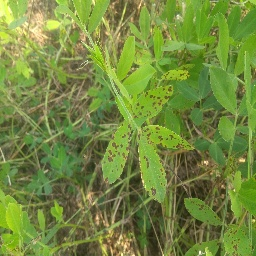GroundNut_Leaf: (100, 116, 132, 183), (138, 135, 168, 204), (207, 66, 237, 114), (135, 86, 174, 119), (184, 198, 222, 227), (118, 35, 136, 81), (237, 175, 256, 214), (87, 2, 110, 34), (5, 203, 23, 242), (7, 1, 28, 28), (218, 117, 235, 143)
